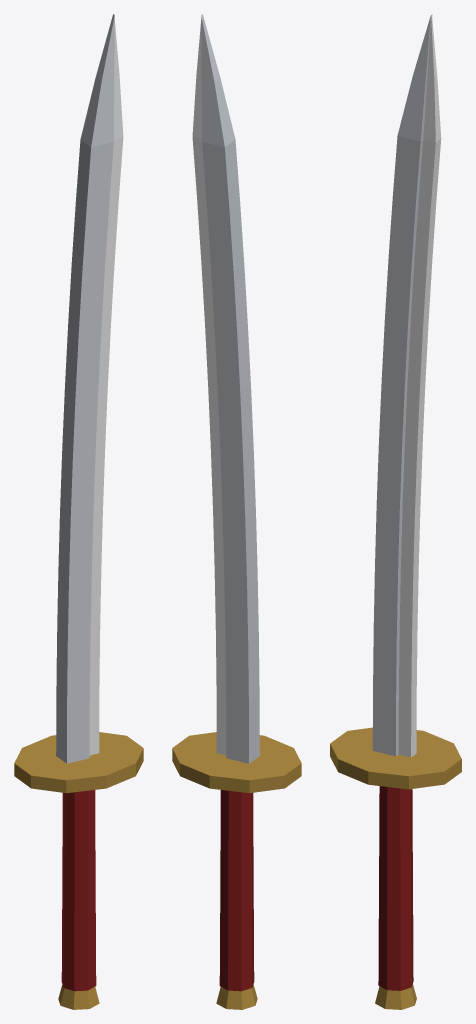
Rendered from Sword_SandaiKitetsu.fbx.
The picture shows the model from 3 angles, left to right: view 1: azimuth 30°, elevation 25°; view 2: azimuth 150°, elevation 25°; view 3: azimuth 330°, elevation 25°; orthographic projection.
Parts seen in each view (by area): view 1: Sword_SandaiKitetsu; view 2: Sword_SandaiKitetsu; view 3: Sword_SandaiKitetsu.
Part boxes in pixels (<box>): Sword_SandaiKitetsu: <box>14,14,143,1009</box>; Sword_SandaiKitetsu: <box>172,14,301,1009</box>; Sword_SandaiKitetsu: <box>330,14,461,1009</box>.
Size of the model in its own units: 0.5469 by 4.54 by 0.46.
1 material, 1 textured.
